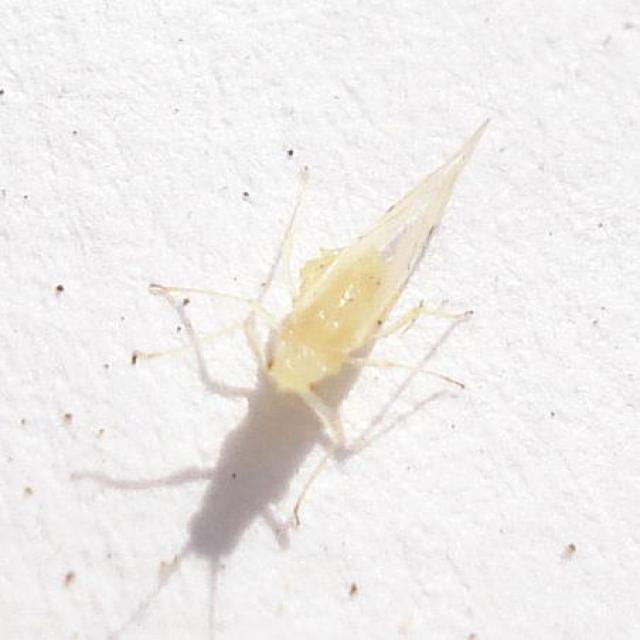Aphids: (177, 123, 487, 433)
